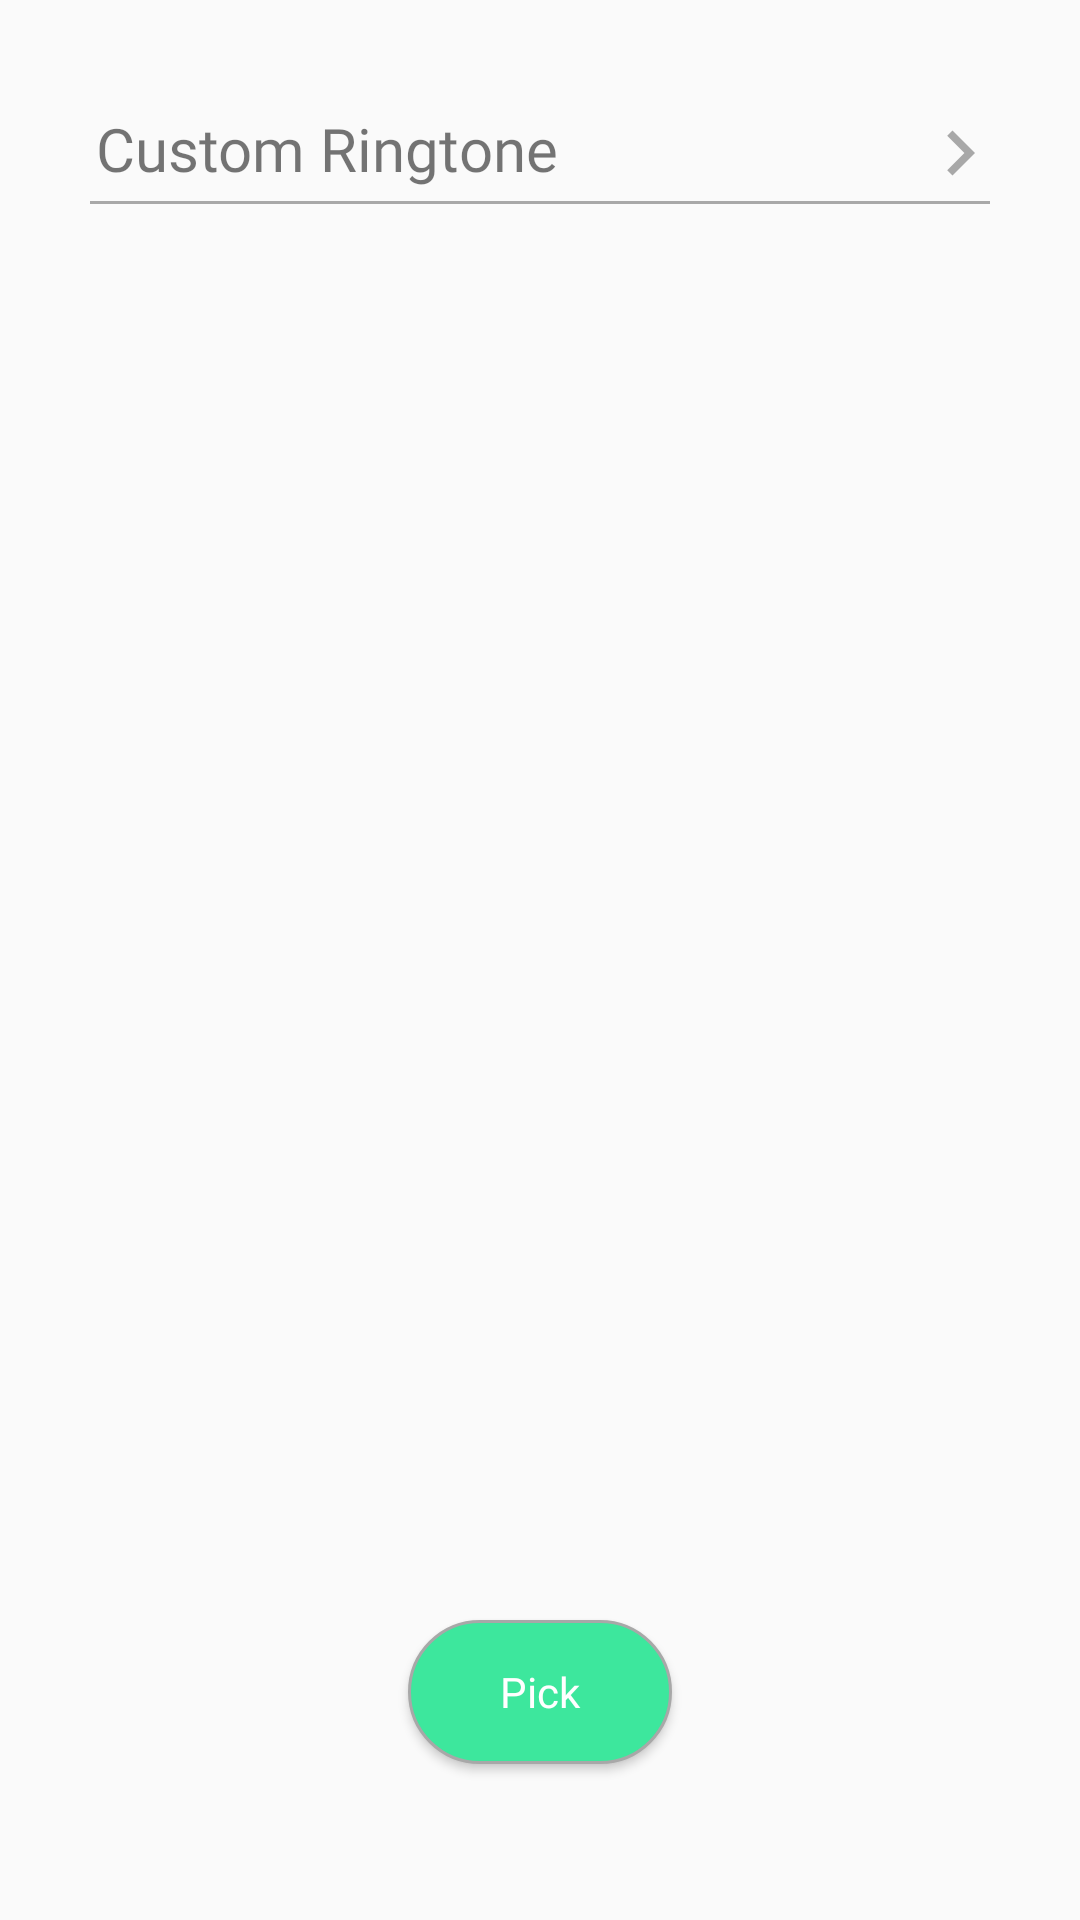

Where icons sit on this 1080px×1920px app screen, as box=[x1, y1, x2, y2]:
navigate next: box=[947, 131, 975, 175]
